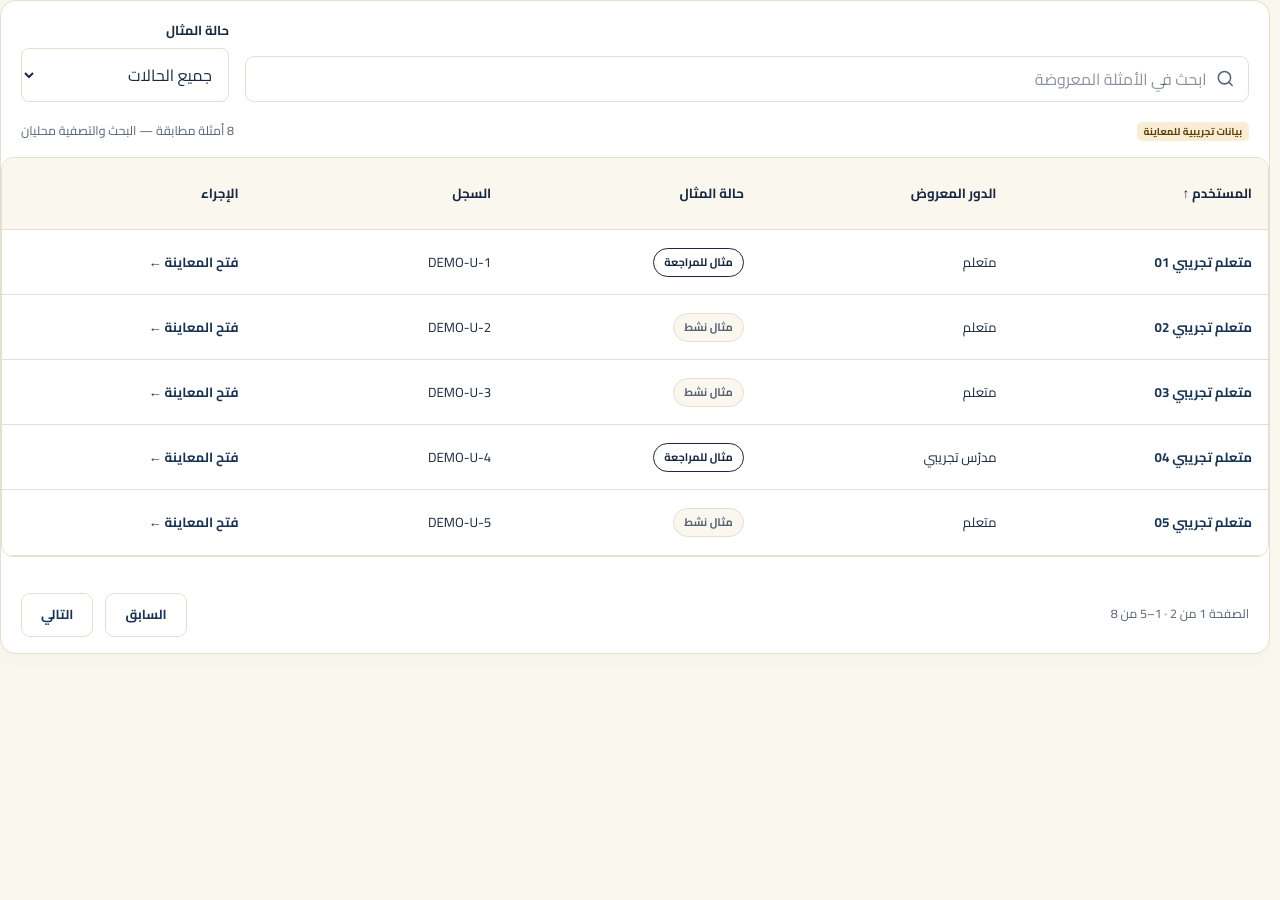
Test: complete admin frontend previews › paginates the bounded synthetic list and resets paging after filtering
Expected: the number of rows is 6, [2,158,1268,230]; [2,230,1268,295]; [2,295,1268,360]; [2,360,1268,425]; [2,425,1268,490]; [2,490,1268,555]
Click the button "التالي" at (57, 614), box [21,592,93,636]
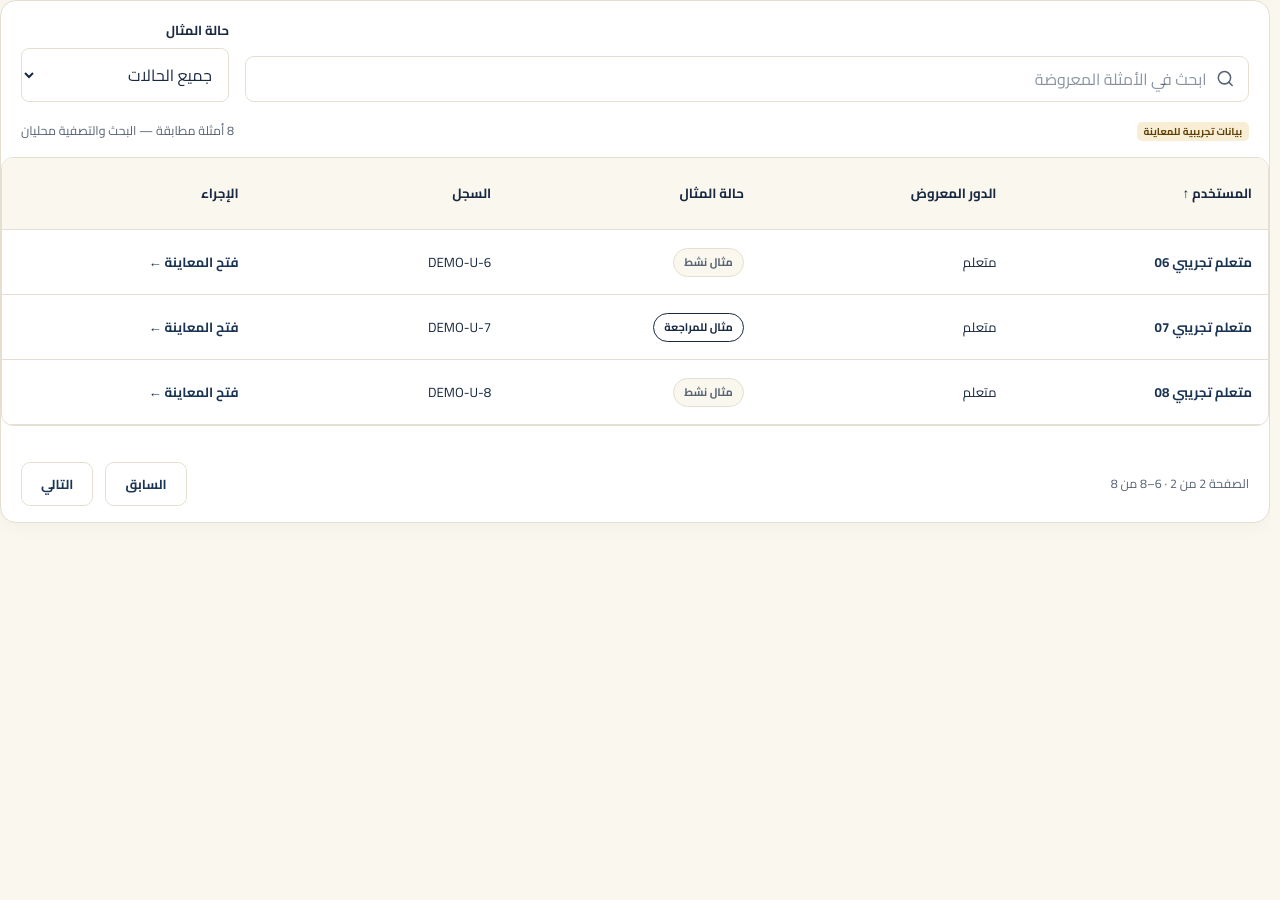
Now the number of rows is 4, box [2,158,1268,230]; [2,230,1268,295]; [2,295,1268,360]; [2,360,1268,425]
Type "متعلم تجريبي 01" into the search field at (728, 78), box [249,58,1206,100]
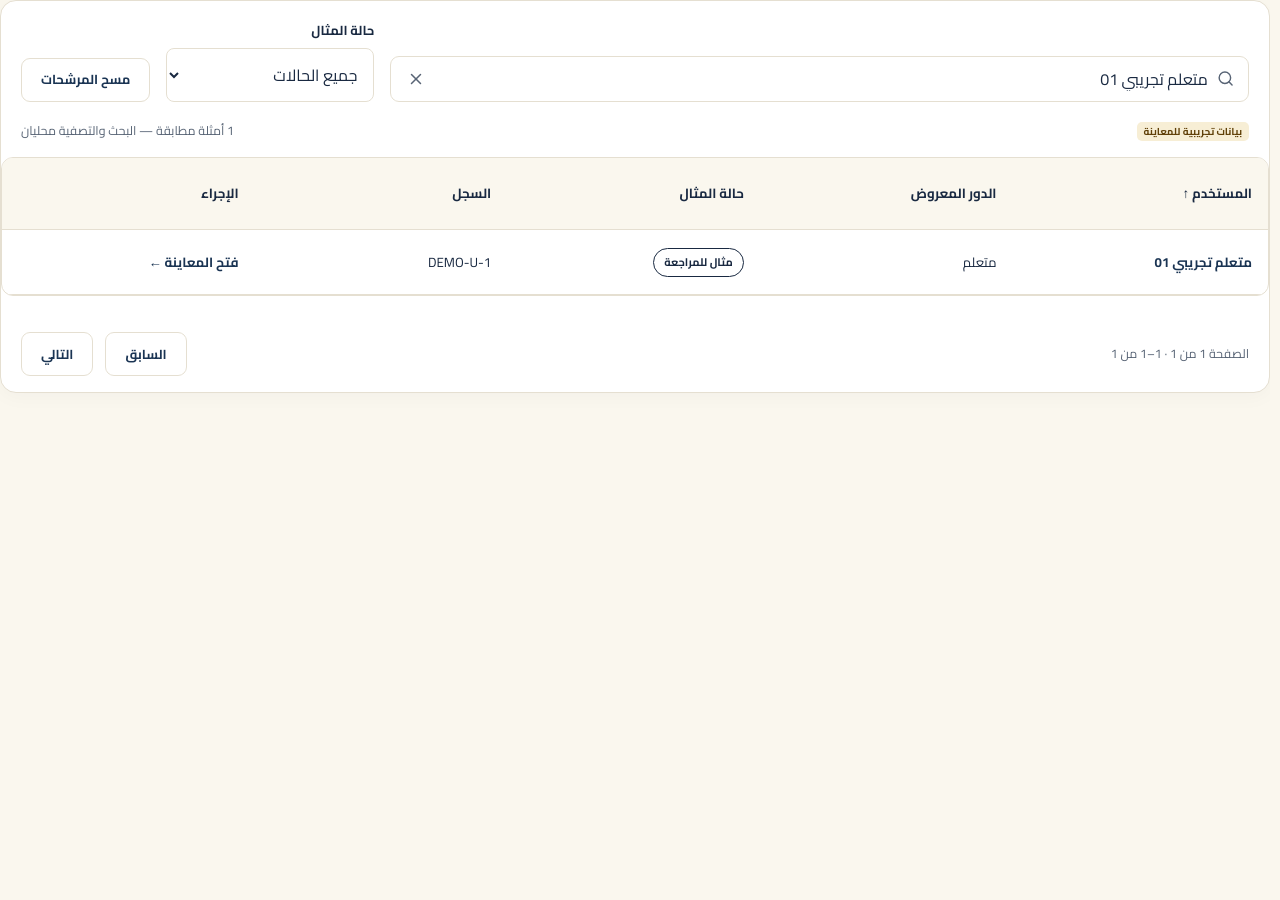
Now the button "التالي" is disabled, box [21,332,93,376]
Now the number of rows is 2, box [2,158,1268,230]; [2,230,1268,295]
Now the text "الصفحة 1 من 1 · 1–1 من 1" is shown, box [1111,345,1249,364]
